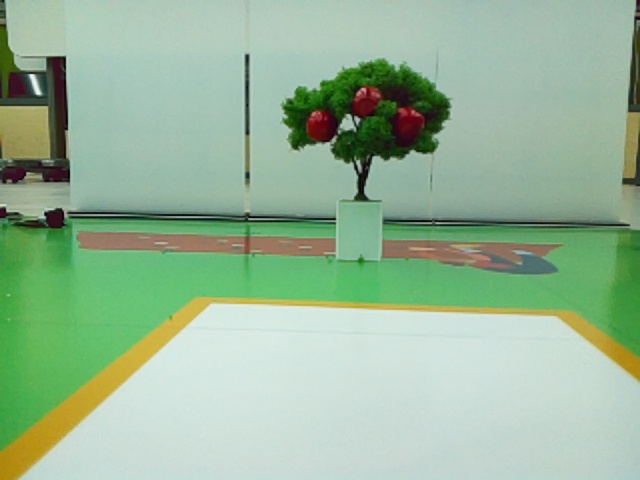apple: (353, 87, 382, 115), (306, 111, 329, 141), (398, 107, 424, 133)
